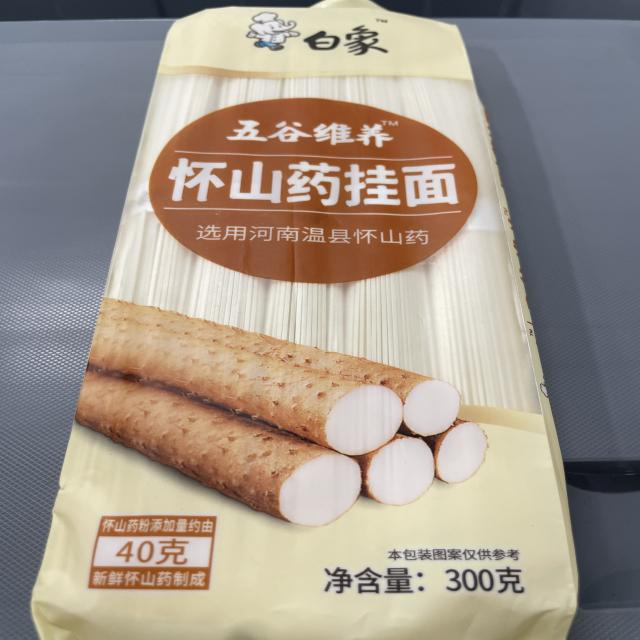object_name: (107, 13, 559, 640)
